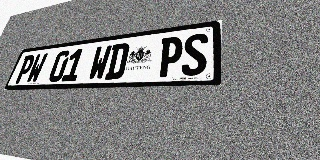0: (47, 50, 71, 82)
1: (61, 48, 86, 82)
D: (104, 42, 130, 80)
P: (157, 36, 184, 77), (14, 54, 36, 84)
S: (181, 32, 208, 76)
W: (87, 45, 113, 80), (25, 53, 48, 83)
